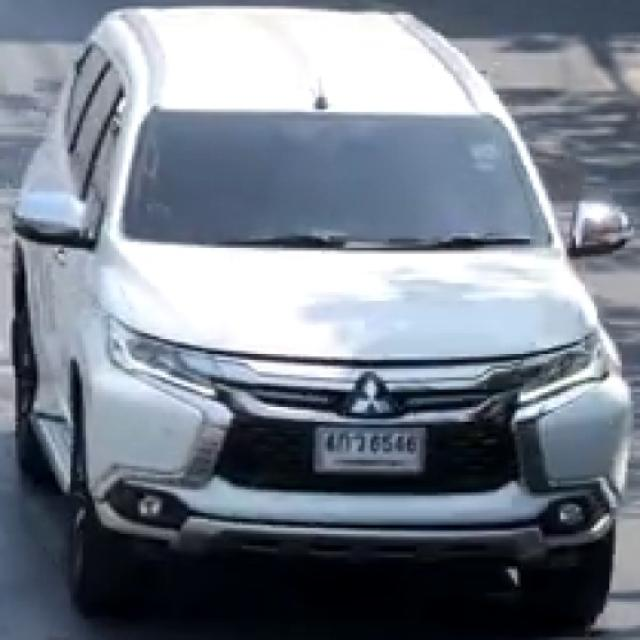plate: (317, 426, 428, 475)
